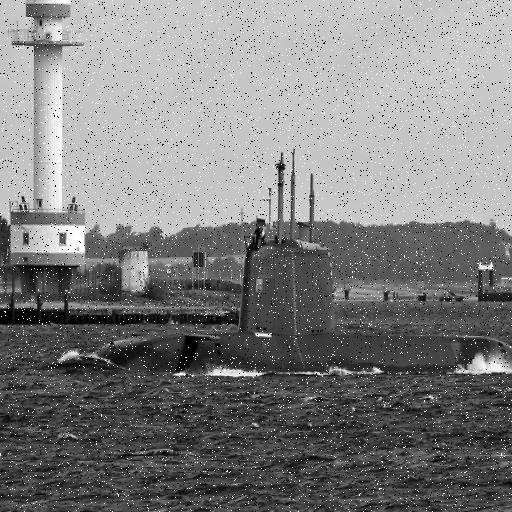submarine: (66, 104, 512, 374)
